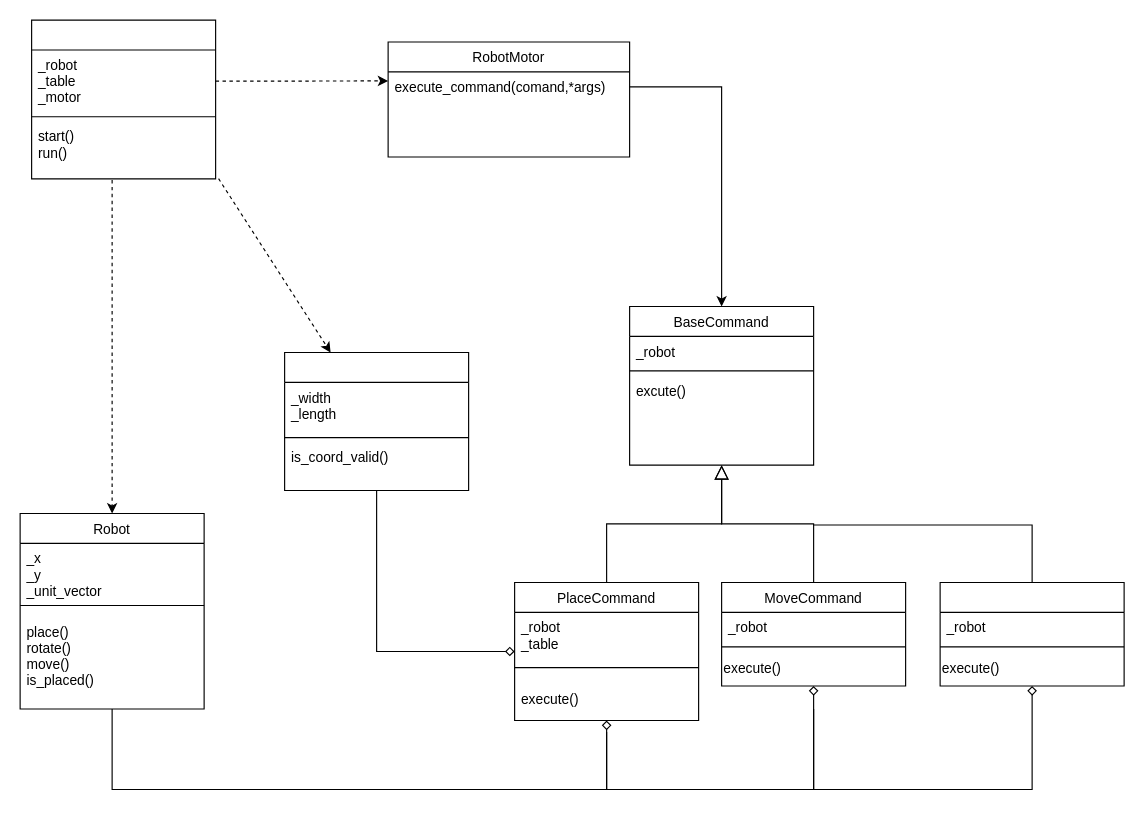
Some shapes in this 1144 by 819 pixel diagram are drawn without their labels. The shapes that lost their labels are listed below. From the top down, each one's box as (x1, y1, x2, y2) in pixels, then its label:
(30, 19, 216, 179): RobotMotherboard
(283, 351, 469, 490): Table
(939, 581, 1124, 686): ...other child comamnd
